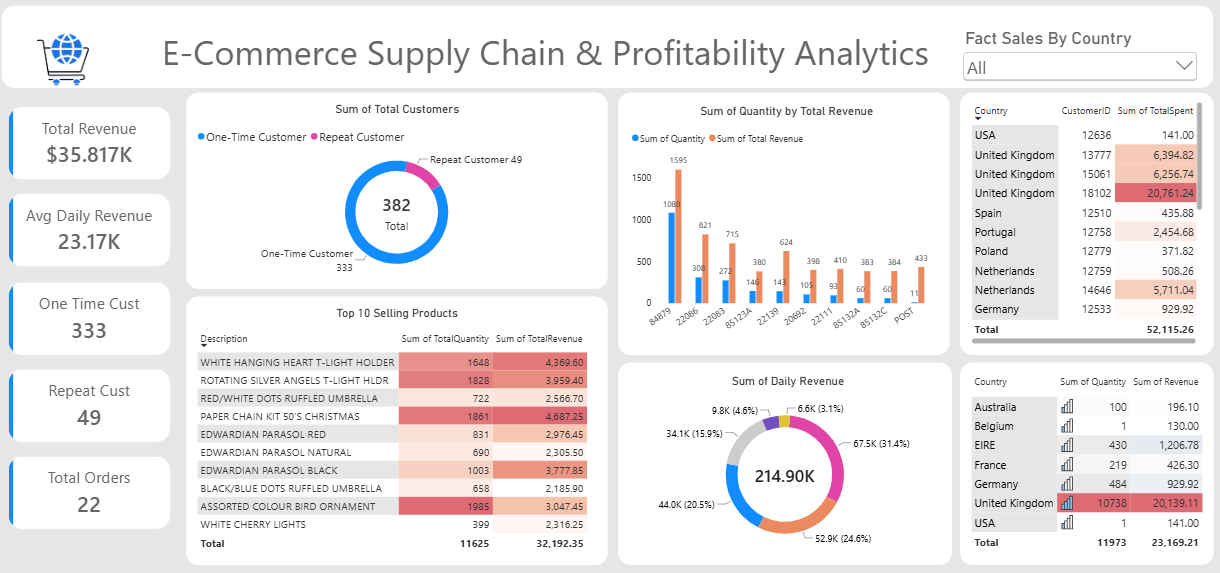

What the dashboard file says about the page in this screenshot:
{"tool":"powerbi","page":{"name":"Page 1","canvas":[1920,2000],"ordinal":0},"visuals":[{"type":"shape","box":[23.5,39.9,1487.5,110.3],"z":0},{"type":"cardVisual","fields":{"Data":["Sum(fact_sales.TotalRevenue)"]},"box":[23.5,314.4,293.3,136.1],"z":1000},{"type":"cardVisual","fields":{"Data":["top_customers.OneTime Customers"]},"box":[23.5,473.9,293.3,136.1],"z":2000},{"type":"cardVisual","fields":{"Data":["top_customers.Repeat Customers"]},"box":[23.5,633.5,293.3,138.4],"z":3000},{"type":"cardVisual","fields":{"Data":["customer_retention.Total Order"]},"box":[23.5,800.1,293.3,131.4],"z":4000},{"type":"waterfallChart","fields":{"Category":["monthly_revenue.MonthlyRevenue"],"Y":["Sum(monthly_revenue.YearMonth)"]},"box":[32.8,1466.4,734.4,312],"z":5000},{"type":"funnel","title":"Sum of DailyRevenue ","fields":{"Category":["daily_revenue.SalesDate"],"Y":["Sum(daily_revenue.DailyRevenue)"]},"box":[980.7,166.6,530,340.2],"z":6000},{"type":"donutChart","title":"Sum of TotalCustomers ","fields":{"Category":["customer_retention.CustomerType"],"Y":["Sum(customer_retention.TotalCustomers)"]},"box":[333.2,166.6,626.4,340.2],"z":7000},{"type":"pivotTable","fields":{"Rows":["top_customers.Country","top_customers.CustomerID"],"Values":["Sum(top_customers.TotalSpent)"]},"box":[23.5,950.2,298,499.7],"z":8000},{"type":"cardVisual","fields":{"Data":["customer_retention.Avg Daily Revenue"]},"box":[23.5,166.6,293.3,129],"z":9000},{"type":"treemap","fields":{"Details":["top_customers.Country"],"Values":["monthly_revenue.Total Revenuee"]},"box":[786,1278.7,725,504.4],"z":10000},{"type":"tableEx","title":"Top 10 Selling Products","fields":{"Values":["Top_product.Description","Sum(Top_product.TotalQuantity)","Sum(Top_product.TotalRevenue)"]},"box":[333.2,523.2,626.4,408.2],"z":11000},{"type":"scatterChart","title":"Average of Price by OrderStatus","fields":{"X":["Avg(fact_sales (2).Price)"],"Y":["Sum(fact_sales (2).Quantity)"],"Category":["fact_sales (2).StockCode"],"Series":["fact_sales (2).OrderStatus"],"Size":["Sum(fact_sales (2).TotalRevenue)"]},"box":[980.7,523.2,530.2,408.2],"z":12000},{"type":"gauge","fields":{"Y":["Sum(fact_sales (2).Invoice)"]},"box":[333.2,950.2,434.1,499.7],"z":13000},{"type":"pivotTable","fields":{"Values":["Min(fact_sales (2).StockCode)","Avg(fact_sales (2).Price)","Sum(fact_sales (2).Quantity)","Sum(fact_sales (2).TotalRevenue)","Sum(fact_sales (2).Invoice)"],"Rows":["fact_sales (2).Country"]},"box":[786,950.2,725,314.4],"z":14000},{"type":"slicer","fields":{"Values":["fact_sales (2).Country"]},"box":[1182.5,63.3,300.3,86.8],"z":15000},{"type":"image","box":[173.6,199.4,180.7,65.7],"z":15002},{"type":"image","box":[131.4,823.5,251,82.1],"z":15007},{"type":"image","box":[152.5,694.5,211.2,65.7],"z":15009},{"type":"image","box":[154.9,363.7,218.2,70.4],"z":15010},{"type":"image","box":[154.9,523.2,204.1,68],"z":15011}]}

Visuals, with their boxes on the page's 1920x2000 design canvas (x1, y1, x2, y2). These are canvas units, not pixel positions in the 1220x573 screenshot, which may show the page scaled, cropped or inside an application window:
shape: 24, 40, 1511, 150
cardVisual - Sum(fact_sales.TotalRevenue): 24, 314, 317, 450
cardVisual - top_customers.OneTime Customers: 24, 474, 317, 610
cardVisual - top_customers.Repeat Customers: 24, 634, 317, 772
cardVisual - customer_retention.Total Order: 24, 800, 317, 932
waterfallChart - monthly_revenue.MonthlyRevenue x Sum(monthly_revenue.YearMonth): 33, 1466, 767, 1778
"Sum of DailyRevenue " funnel: 981, 167, 1511, 507
"Sum of TotalCustomers " donutChart: 333, 167, 960, 507
pivotTable - top_customers.Country x top_customers.CustomerID: 24, 950, 322, 1450
cardVisual - customer_retention.Avg Daily Revenue: 24, 167, 317, 296
treemap - top_customers.Country x monthly_revenue.Total Revenuee: 786, 1279, 1511, 1783
"Top 10 Selling Products" tableEx: 333, 523, 960, 931
"Average of Price by OrderStatus" scatterChart: 981, 523, 1511, 931
gauge - Sum(fact_sales (2).Invoice): 333, 950, 767, 1450
pivotTable - Min(fact_sales (2).StockCode) x Avg(fact_sales (2).Price): 786, 950, 1511, 1265
slicer - fact_sales (2).Country: 1182, 63, 1483, 150
image: 174, 199, 354, 265
image: 131, 824, 382, 906
image: 152, 694, 364, 760
image: 155, 364, 373, 434
image: 155, 523, 359, 591
